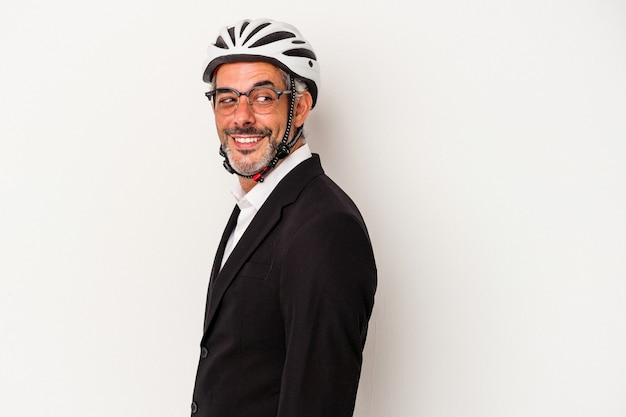helmet: (202, 17, 321, 177)
